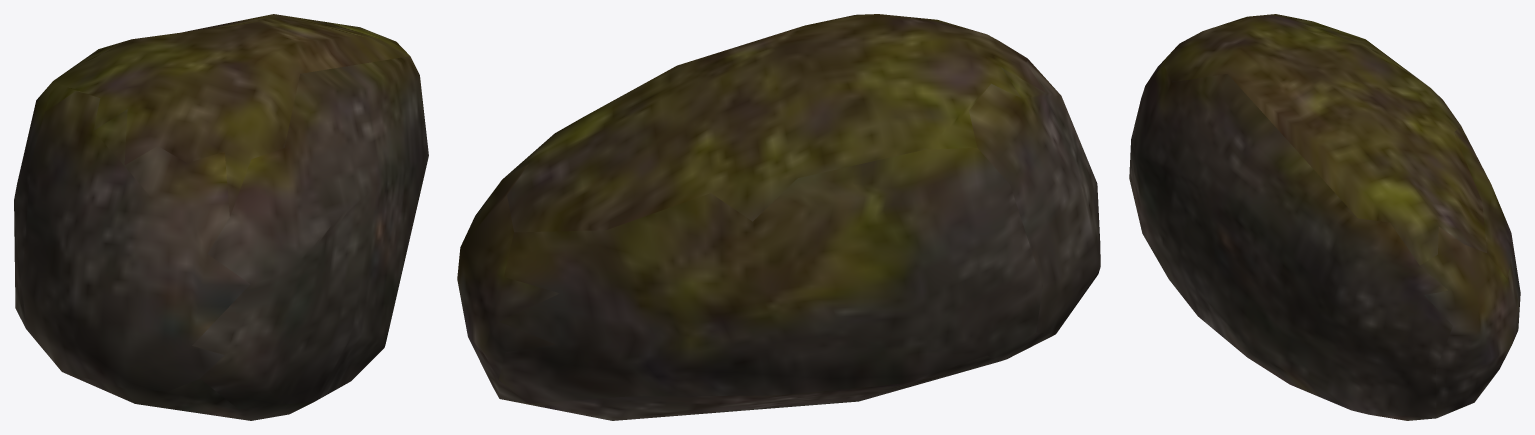
The model's file is mossy-stones-c.lod1.glb.
3 views of the same model, side by side, from view 1: azimuth 30°, elevation 25°; view 2: azimuth 150°, elevation 25°; view 3: azimuth 270°, elevation 25° (orthographic). The views are drawn at different scales.
Parts seen in each view (by area): view 1: defaultMaterial; view 2: defaultMaterial; view 3: defaultMaterial.
Part boxes in pixels (x1,y1,x2,y2): defaultMaterial: [14, 14, 428, 420]; defaultMaterial: [457, 14, 1100, 420]; defaultMaterial: [1129, 14, 1520, 420].
Size of the model in its own units: 0.9934 by 0.7285 by 0.8894.
Materials: 1 (1 with a texture image).
